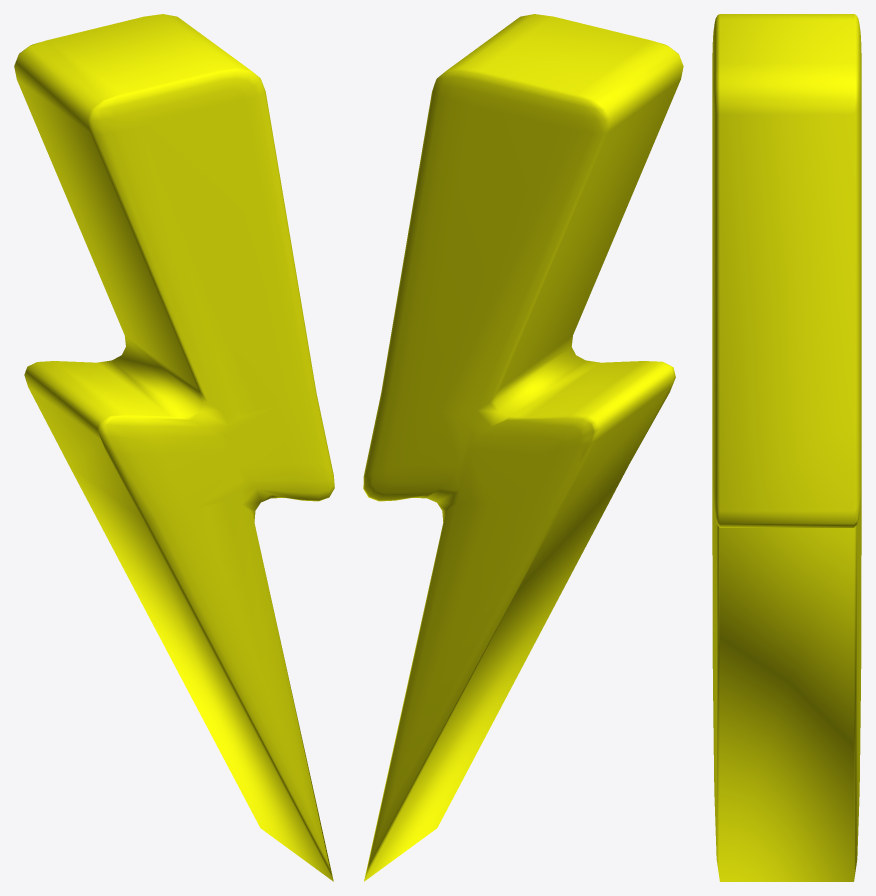
File: rayo_islamecanica_v1.FBX
The picture shows the model from 3 angles, left to right: view 1: azimuth 30°, elevation 25°; view 2: azimuth 150°, elevation 25°; view 3: azimuth 270°, elevation 25°; orthographic projection. The views are drawn at different scales.
Parts seen in each view (by area): view 1: Box002; view 2: Box002; view 3: Box002.
Part boxes in pixels (x1=…): Box002: x1=14, y1=14, x2=334, y2=881; Box002: x1=363, y1=14, x2=683, y2=881; Box002: x1=712, y1=14, x2=861, y2=881.
Size of the model in its own units: 5.75 by 18.7 by 3.3.
1 material, 1 textured.
